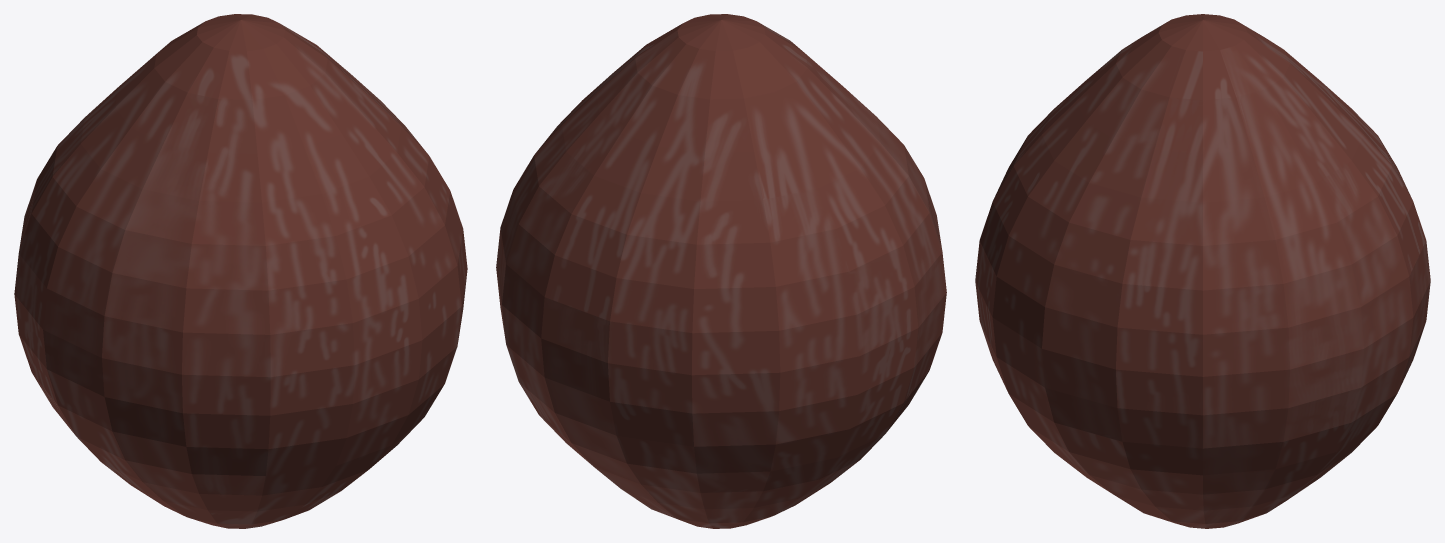
File: coconut.glb
3 views of the same model, side by side, from view 1: azimuth 30°, elevation 25°; view 2: azimuth 150°, elevation 25°; view 3: azimuth 270°, elevation 25° (orthographic).
Parts seen in each view (by area): view 1: Sphere; view 2: Sphere; view 3: Sphere.
Boxes of the visible parts, box(x1,y1,x2,y2) form: Sphere: box(14, 14, 467, 528); Sphere: box(496, 14, 946, 528); Sphere: box(975, 14, 1430, 528).
Bounding box in the file's own units: 0.3984 × 0.4817 × 0.3984.
Materials: 1 (1 with a texture image).
